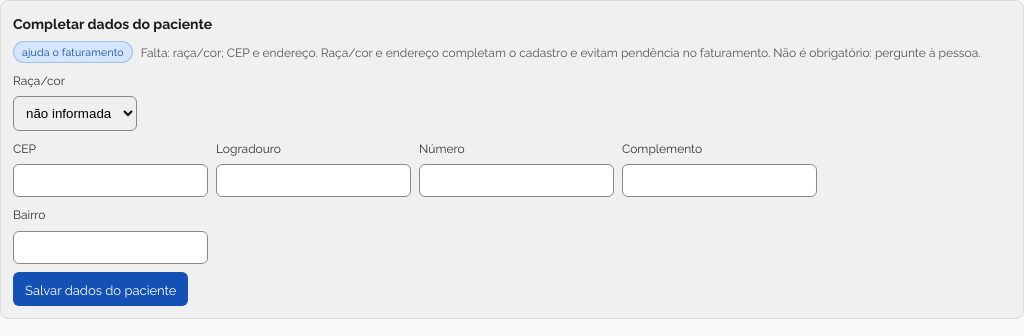
DemographicsForm › incentiva com o que falta; etnia só para indígena
Expected: the field labelled "Etnia (código)" is not shown
Select "Indígena" in the dropdown labelled "Raça/cor" at (75, 113), box [13,96,137,131]
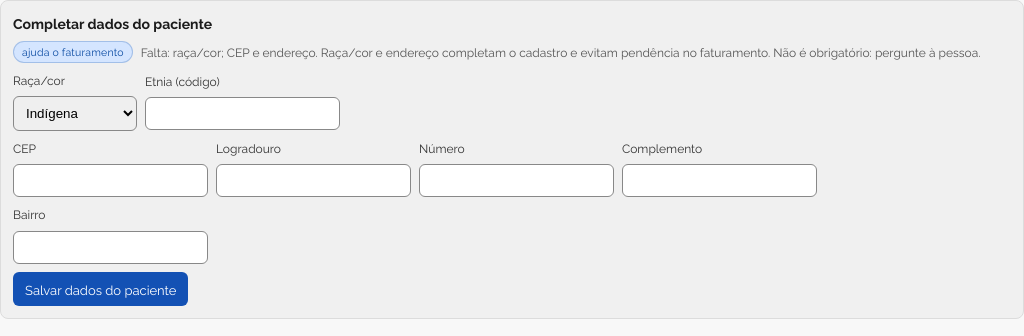
Expected: the field labelled "Etnia (código)" is shown, [145,97,340,130]
